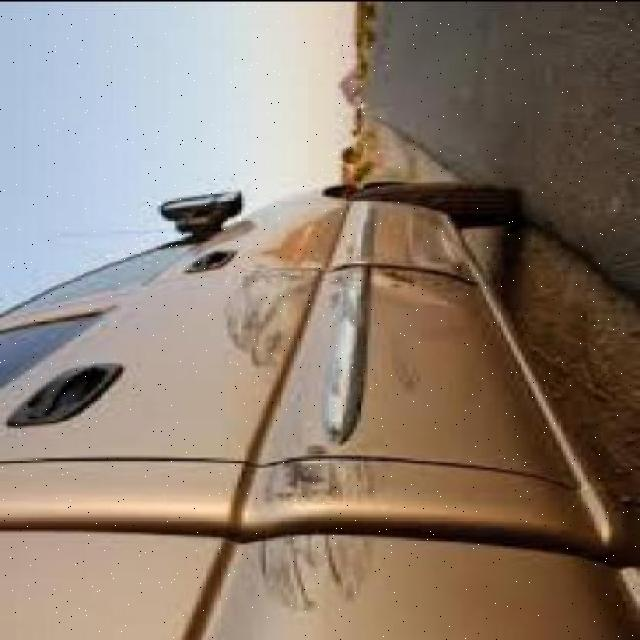damage: (214, 254, 452, 374), (256, 432, 393, 508), (253, 532, 378, 604), (383, 335, 440, 400)
